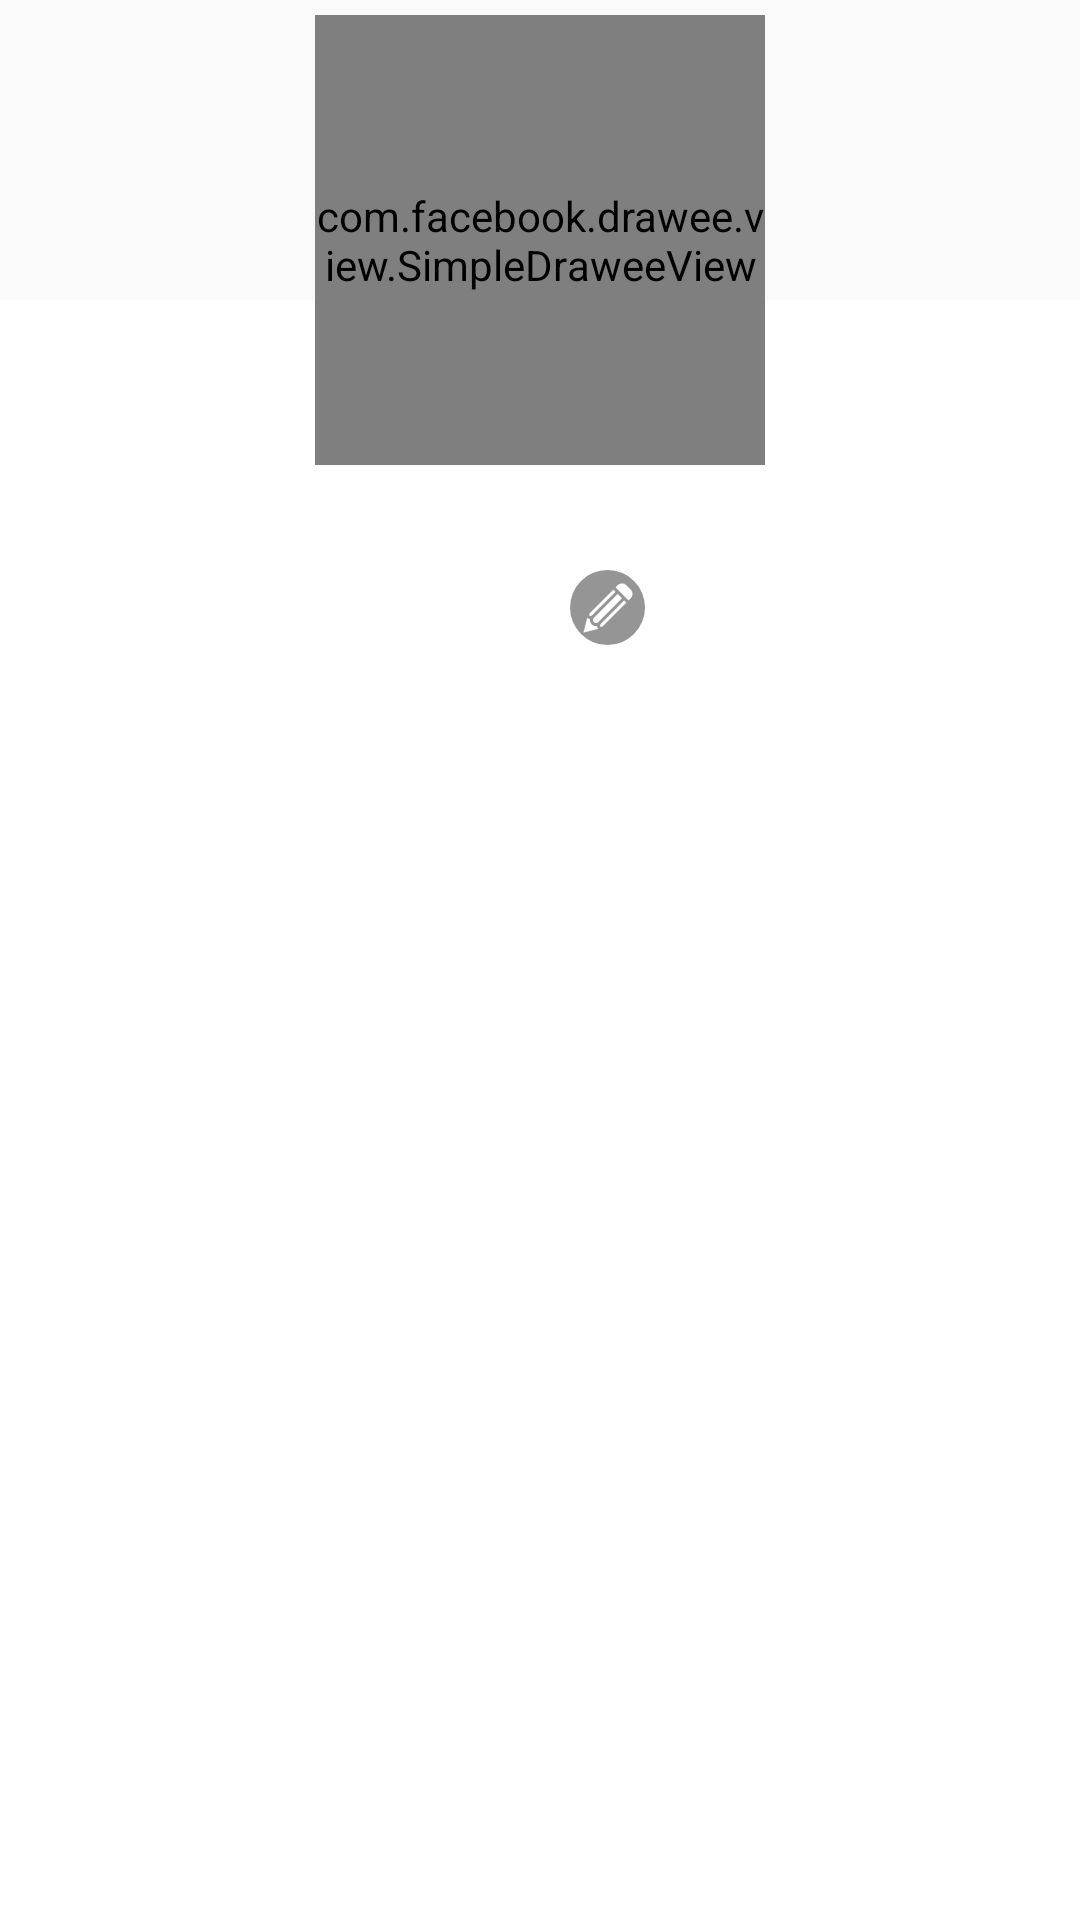

Where icons sit on this 1080 x 1920 app screen, as (x1, y1, x2, y2):
edit: (570, 570, 645, 645)
